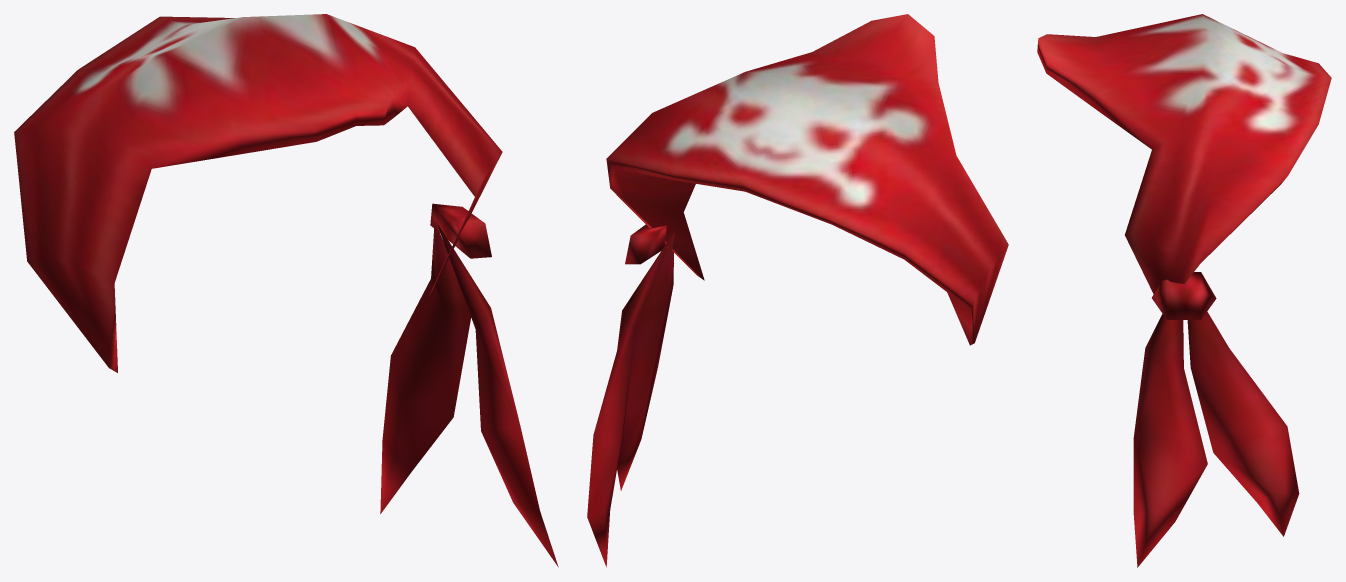
Rendered from pirateBandana.glb.
3 renders of one model, left to right at view 1: azimuth 30°, elevation 25°; view 2: azimuth 150°, elevation 25°; view 3: azimuth 270°, elevation 25°, orthographic. The views are drawn at different scales.
Visible parts, largest first — view 1: pirateBandana; view 2: pirateBandana; view 3: pirateBandana.
Boxes of the visible parts, left/top/right/bottom form: pirateBandana: left=14, top=14, right=558, bottom=567; pirateBandana: left=587, top=14, right=1008, bottom=567; pirateBandana: left=1037, top=14, right=1331, bottom=567.
Bounding box in the file's own units: 0.2802 × 0.3306 × 0.202.
1 material, 1 textured.
